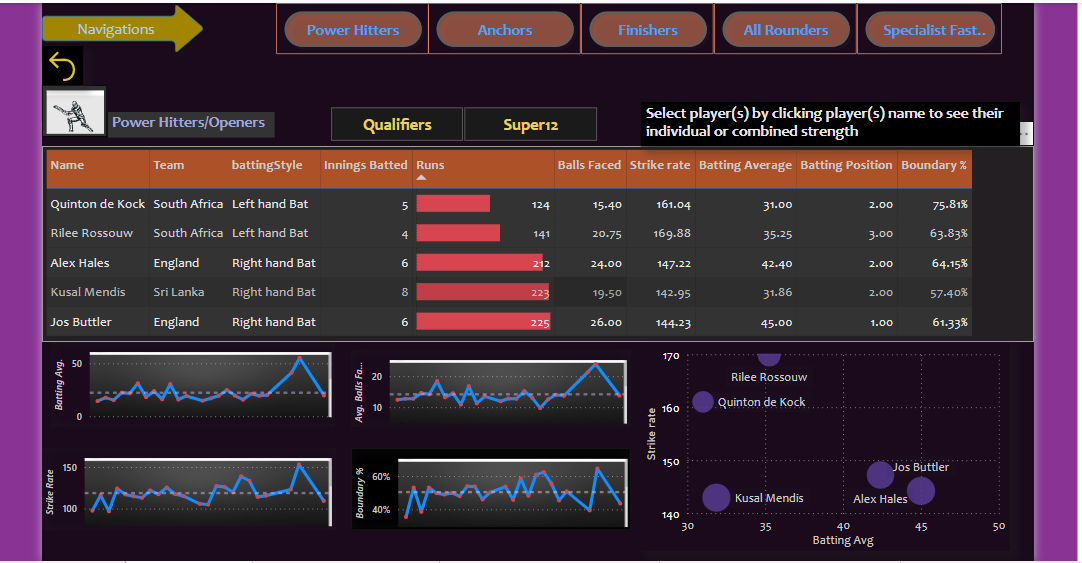

Layout of this report page (visuals, bound fields, positions):
{"tool":"powerbi","page":{"name":"Project-Sportan","canvas":[1280,720],"ordinal":0},"visuals":[{"type":"tableEx","fields":{"Values":["dim_players.name","dim_players.team","dim_players.battingStyle","Key_Measures (2).Total Innings Batted","Key_Measures (2).Total_Runs","Key_Measures (2).Avg. balls Faced","Key_Measures (2).Strike rate","Key_Measures (2).Batting Avg","Key_Measures (2).Batting Position","Key_Measures (2).Boundary %"]},"box":[0,184.3,1280,252.9],"z":0},{"type":"scatterChart","fields":{"X":["Key_Measures (2).Batting Avg"],"Y":["Key_Measures (2).Strike rate"],"Category":["dim_players.name"],"Size":["Key_Measures (2).Total_Runs"]},"box":[772.9,437.1,475.7,270],"z":1000},{"type":"lineChart","title":"Batting Avg Vs MatchDate","fields":{"Category":["dim_match_summary.matchDate"],"Y":["Key_Measures (2).Batting Avg"]},"box":[11.4,437.1,367.1,110],"z":2000},{"type":"lineChart","title":"Avg. Balls Faced Vs MatchDate","fields":{"Category":["dim_match_summary.matchDate"],"Y":["Key_Measures (2).Avg. balls Faced"]},"box":[398.6,447.1,361.4,100],"z":3000},{"type":"lineChart","title":"Strike Rate Vs Match Date","fields":{"Category":["dim_match_summary.matchDate"],"Y":["Key_Measures (2).Strike rate"]},"box":[0,574.3,378.6,105.7],"z":4000},{"type":"lineChart","title":"Batting Avg Vs MatchDate","fields":{"Category":["dim_match_summary.matchDate"],"Y":["Key_Measures (2).Boundary %"]},"box":[398.6,574.3,361.4,105.7],"z":5000},{"type":"textbox","title":"Power Hitters/Openers","box":[85,140.3,215.4,32.6],"z":6000},{"type":"image","box":[0,106.3,83.6,66.6],"z":7000},{"type":"shape","box":[0,0,210,65.7],"z":8000},{"type":"slicer","fields":{"Values":["dim_match_summary.Stage"]},"box":[347.1,127.1,392.9,57.1],"z":9000},{"type":"textbox","title":"Select player(s) by clicking player(s) name to see their individual or combined strength","box":[772.9,127.1,488.6,57.1],"z":10000},{"type":"actionButton","box":[0,55.7,52.9,50],"z":11000},{"type":"actionButton","box":[301.4,0,197.1,65.7],"z":12000},{"type":"actionButton","box":[695.7,0,171.4,65.7],"z":13000},{"type":"actionButton","box":[498.6,0,197.1,65.7],"z":14000},{"type":"actionButton","box":[867.1,0,184.3,65.7],"z":15000},{"type":"actionButton","box":[1051.4,0,187.1,65.7],"z":16000}]}

Visuals, with their boxes on the page's 1280x720 design canvas (x1, y1, x2, y2). These are canvas units, not pixel positions in the 1082x563 screenshot, which may show the page scaled, cropped or inside an application window:
tableEx - dim_players.name x dim_players.team: <box>0,184,1280,437</box>
scatterChart - Key_Measures (2).Batting Avg x Key_Measures (2).Strike rate: <box>773,437,1249,707</box>
"Batting Avg Vs MatchDate" lineChart: <box>11,437,378,547</box>
"Avg. Balls Faced Vs MatchDate" lineChart: <box>399,447,760,547</box>
"Strike Rate Vs Match Date" lineChart: <box>0,574,379,680</box>
"Batting Avg Vs MatchDate" lineChart: <box>399,574,760,680</box>
"Power Hitters/Openers" textbox: <box>85,140,300,173</box>
image: <box>0,106,84,173</box>
shape: <box>0,0,210,66</box>
slicer - dim_match_summary.Stage: <box>347,127,740,184</box>
"Select player(s) by clicking player(s) name to see their individual or combined strength" textbox: <box>773,127,1262,184</box>
actionButton: <box>0,56,53,106</box>
actionButton: <box>301,0,498,66</box>
actionButton: <box>696,0,867,66</box>
actionButton: <box>499,0,696,66</box>
actionButton: <box>867,0,1051,66</box>
actionButton: <box>1051,0,1238,66</box>
